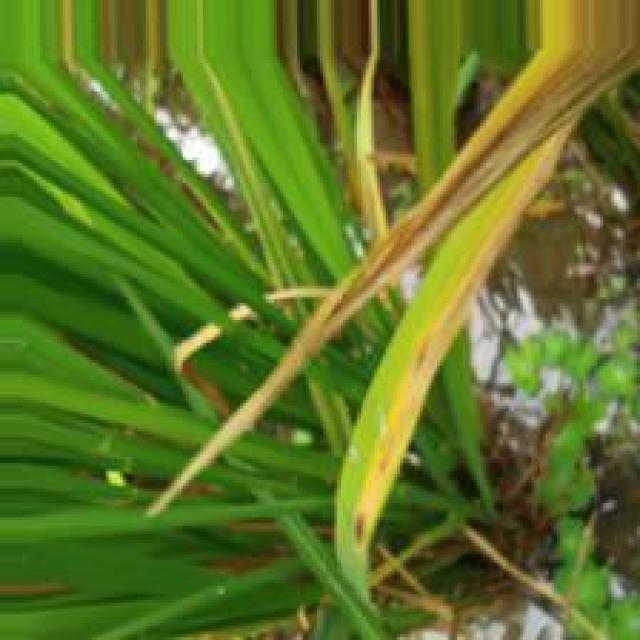Rice False Smut: (350, 123, 573, 553), (324, 75, 565, 317)
